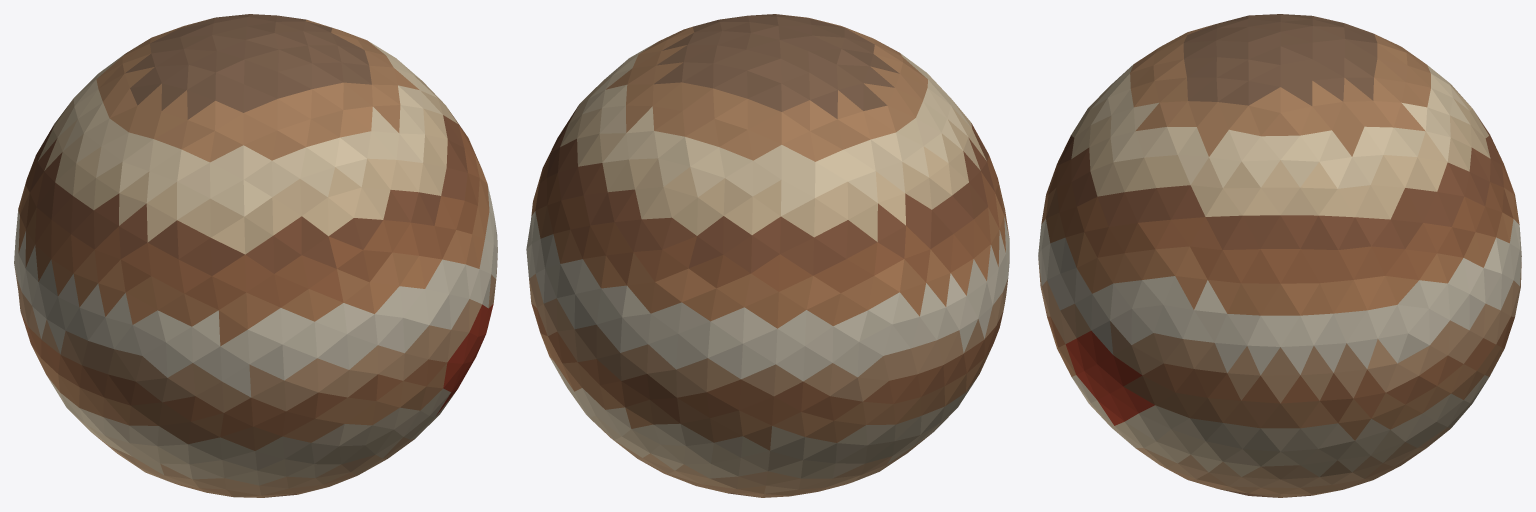
File: jupiter.glb
3 views of the same model, side by side, from view 1: azimuth 30°, elevation 25°; view 2: azimuth 150°, elevation 25°; view 3: azimuth 270°, elevation 25° (orthographic).
Visible parts, largest first — view 1: jupiter_body; view 2: jupiter_body; view 3: jupiter_body.
Boxes of the visible parts, bbox=[...] form: jupiter_body: bbox=[14, 14, 497, 497]; jupiter_body: bbox=[526, 14, 1009, 497]; jupiter_body: bbox=[1038, 14, 1521, 497].
Size of the model in its own units: 3.3 by 3.3 by 3.3.
